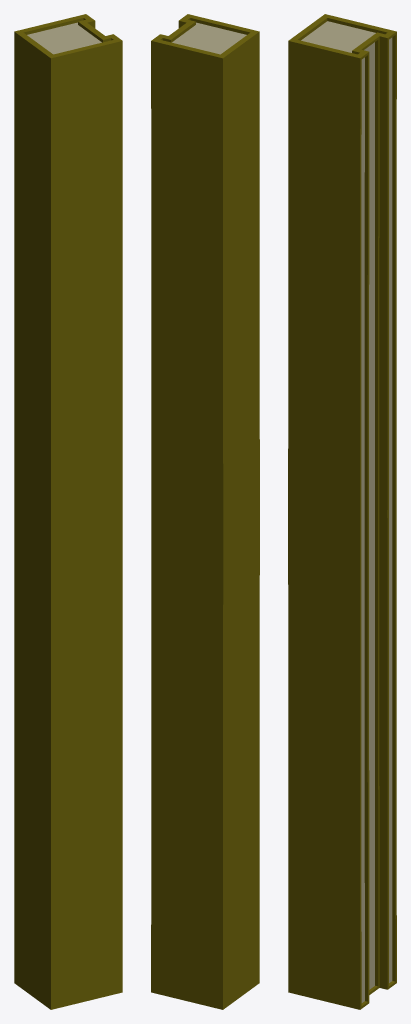
The model's file is Wooden_Strut.fbx.
The picture shows the model from 3 angles, left to right: view 1: azimuth 30°, elevation 25°; view 2: azimuth 150°, elevation 25°; view 3: azimuth 330°, elevation 25°; orthographic projection.
Parts seen in each view (by area): view 1: Wood_Strut; view 2: Wood_Strut; view 3: Wood_Strut.
Boxes of the visible parts, box(x1,y1,x2,y2) form: Wood_Strut: box(14, 14, 122, 1009); Wood_Strut: box(151, 14, 259, 1009); Wood_Strut: box(288, 14, 396, 1009).
Size of the model in its own units: 1.87 by 23.58 by 1.65.
